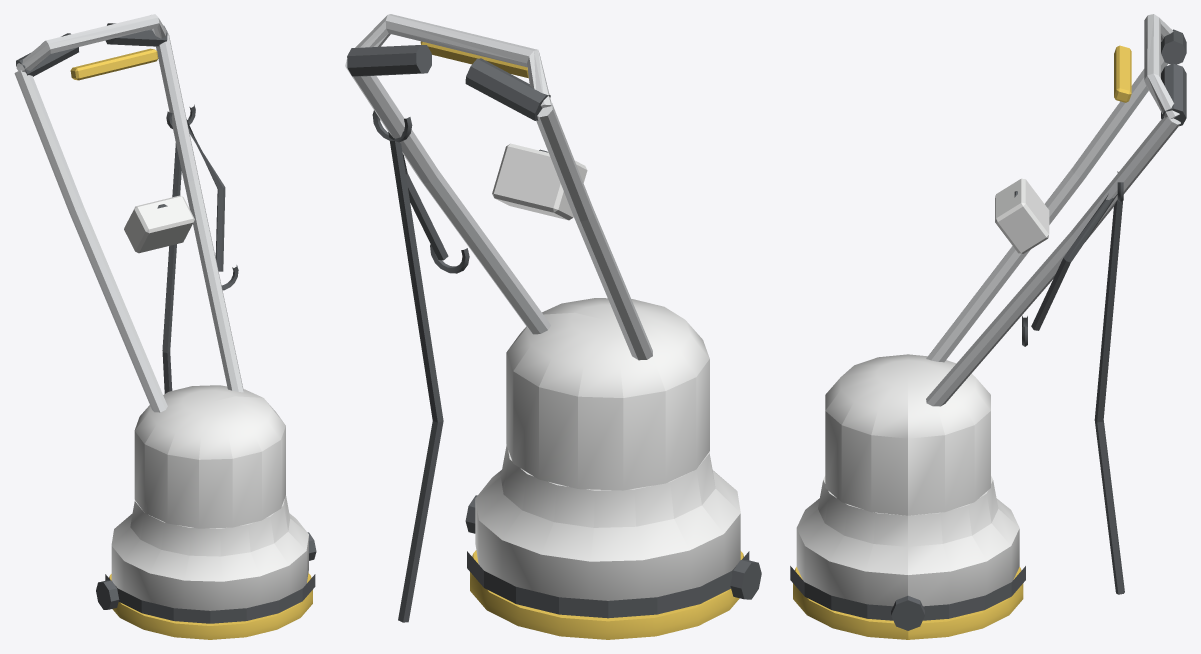
The model's file is laundrette-and-cleaning-floor-polisher-rotary-203d408b__25570.glb.
3 renders of one model, left to right at view 1: azimuth 30°, elevation 25°; view 2: azimuth 150°, elevation 25°; view 3: azimuth 270°, elevation 25°, orthographic. The views are drawn at different scales.
Parts seen in each view (by area): view 1: floor-polisher-rotary; view 2: floor-polisher-rotary; view 3: floor-polisher-rotary.
Boxes of the visible parts, x1,y1,x2,y2 form: floor-polisher-rotary: [14, 14, 316, 639]; floor-polisher-rotary: [345, 14, 761, 639]; floor-polisher-rotary: [790, 14, 1186, 639].
Size of the model in its own units: 0.5 by 1.14 by 0.7455.
